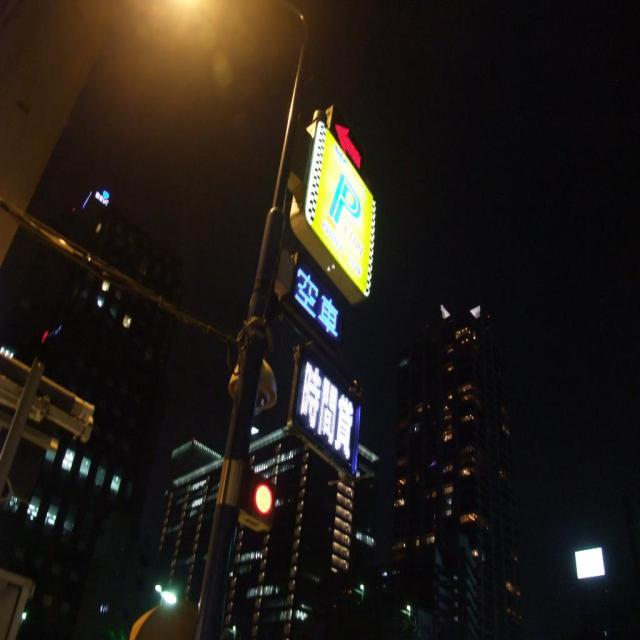traffic light: (235, 467, 280, 535)
